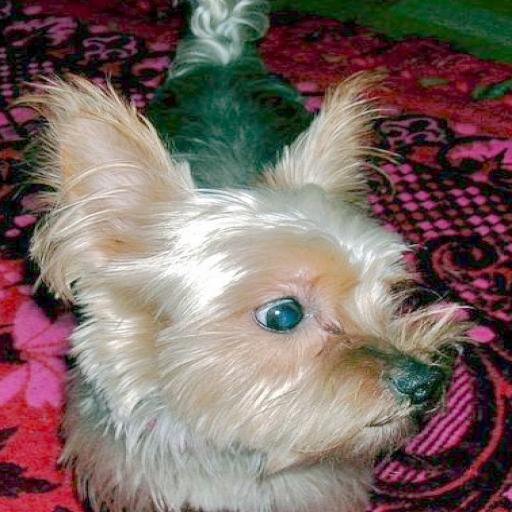dog_face: (31, 79, 453, 452)
